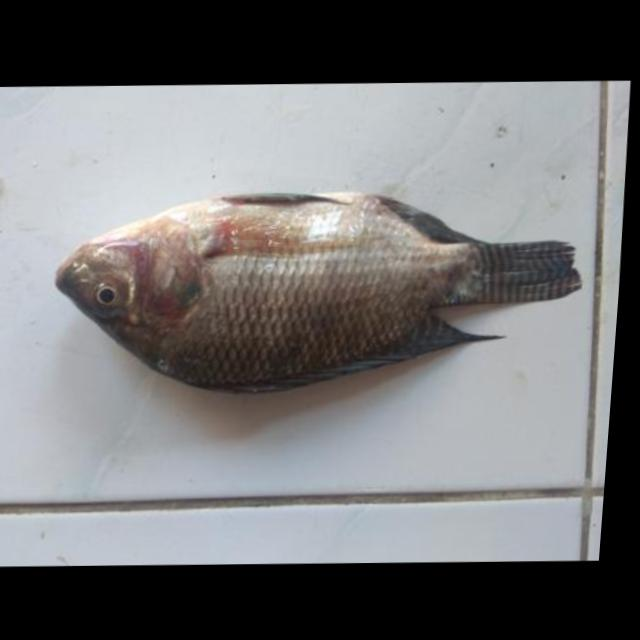Tilapia: (40, 181, 594, 398)
